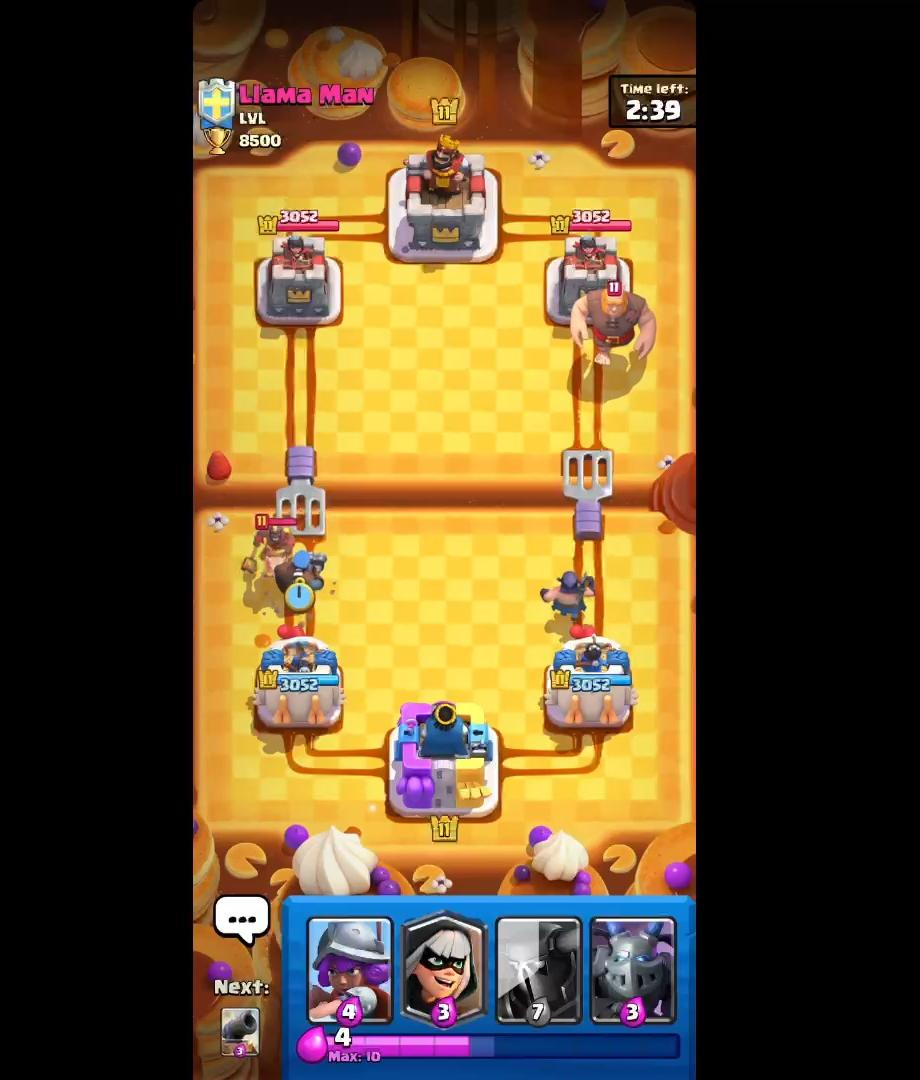Giant: (566, 279, 665, 377)
Hog Rider: (240, 514, 301, 587)
